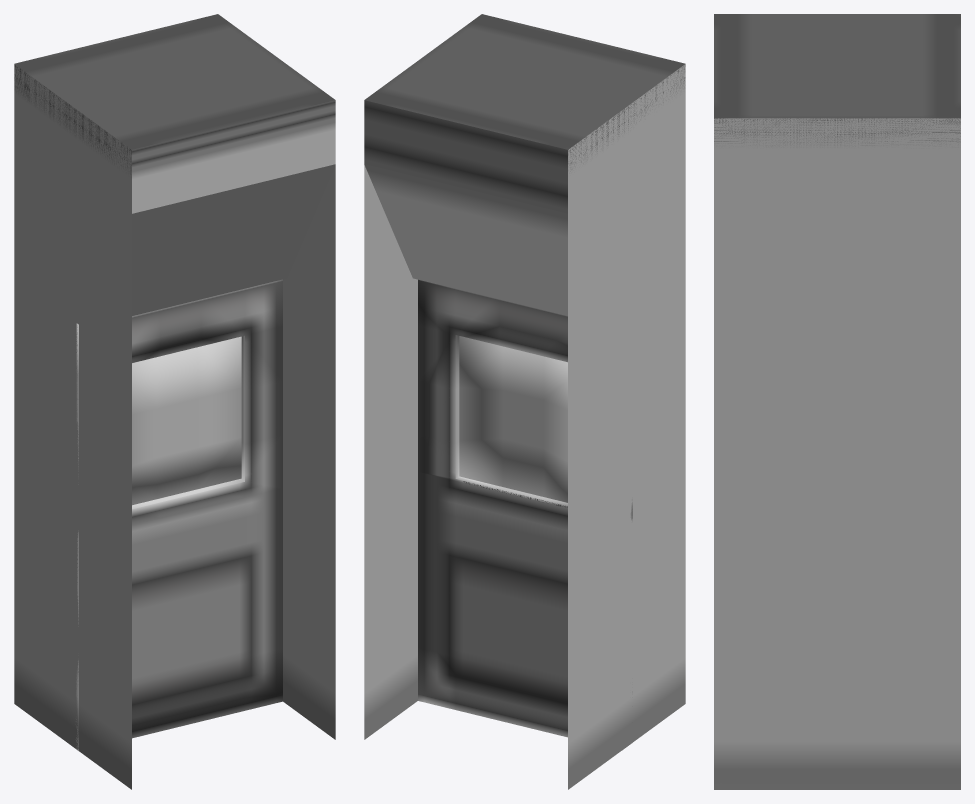
The model's file is Door_Vertical.fbx.
3 renders of one model, left to right at view 1: azimuth 30°, elevation 25°; view 2: azimuth 150°, elevation 25°; view 3: azimuth 270°, elevation 25°, orthographic. The views are drawn at different scales.
Visible parts, largest first — view 1: Door_Vertical; view 2: Door_Vertical; view 3: Door_Vertical.
Part boxes in pixels (x1=…): Door_Vertical: x1=14, y1=14, x2=335, y2=789; Door_Vertical: x1=364, y1=14, x2=685, y2=789; Door_Vertical: x1=714, y1=14, x2=960, y2=789.
Size of the model in its own units: 100 by 300 by 100.
